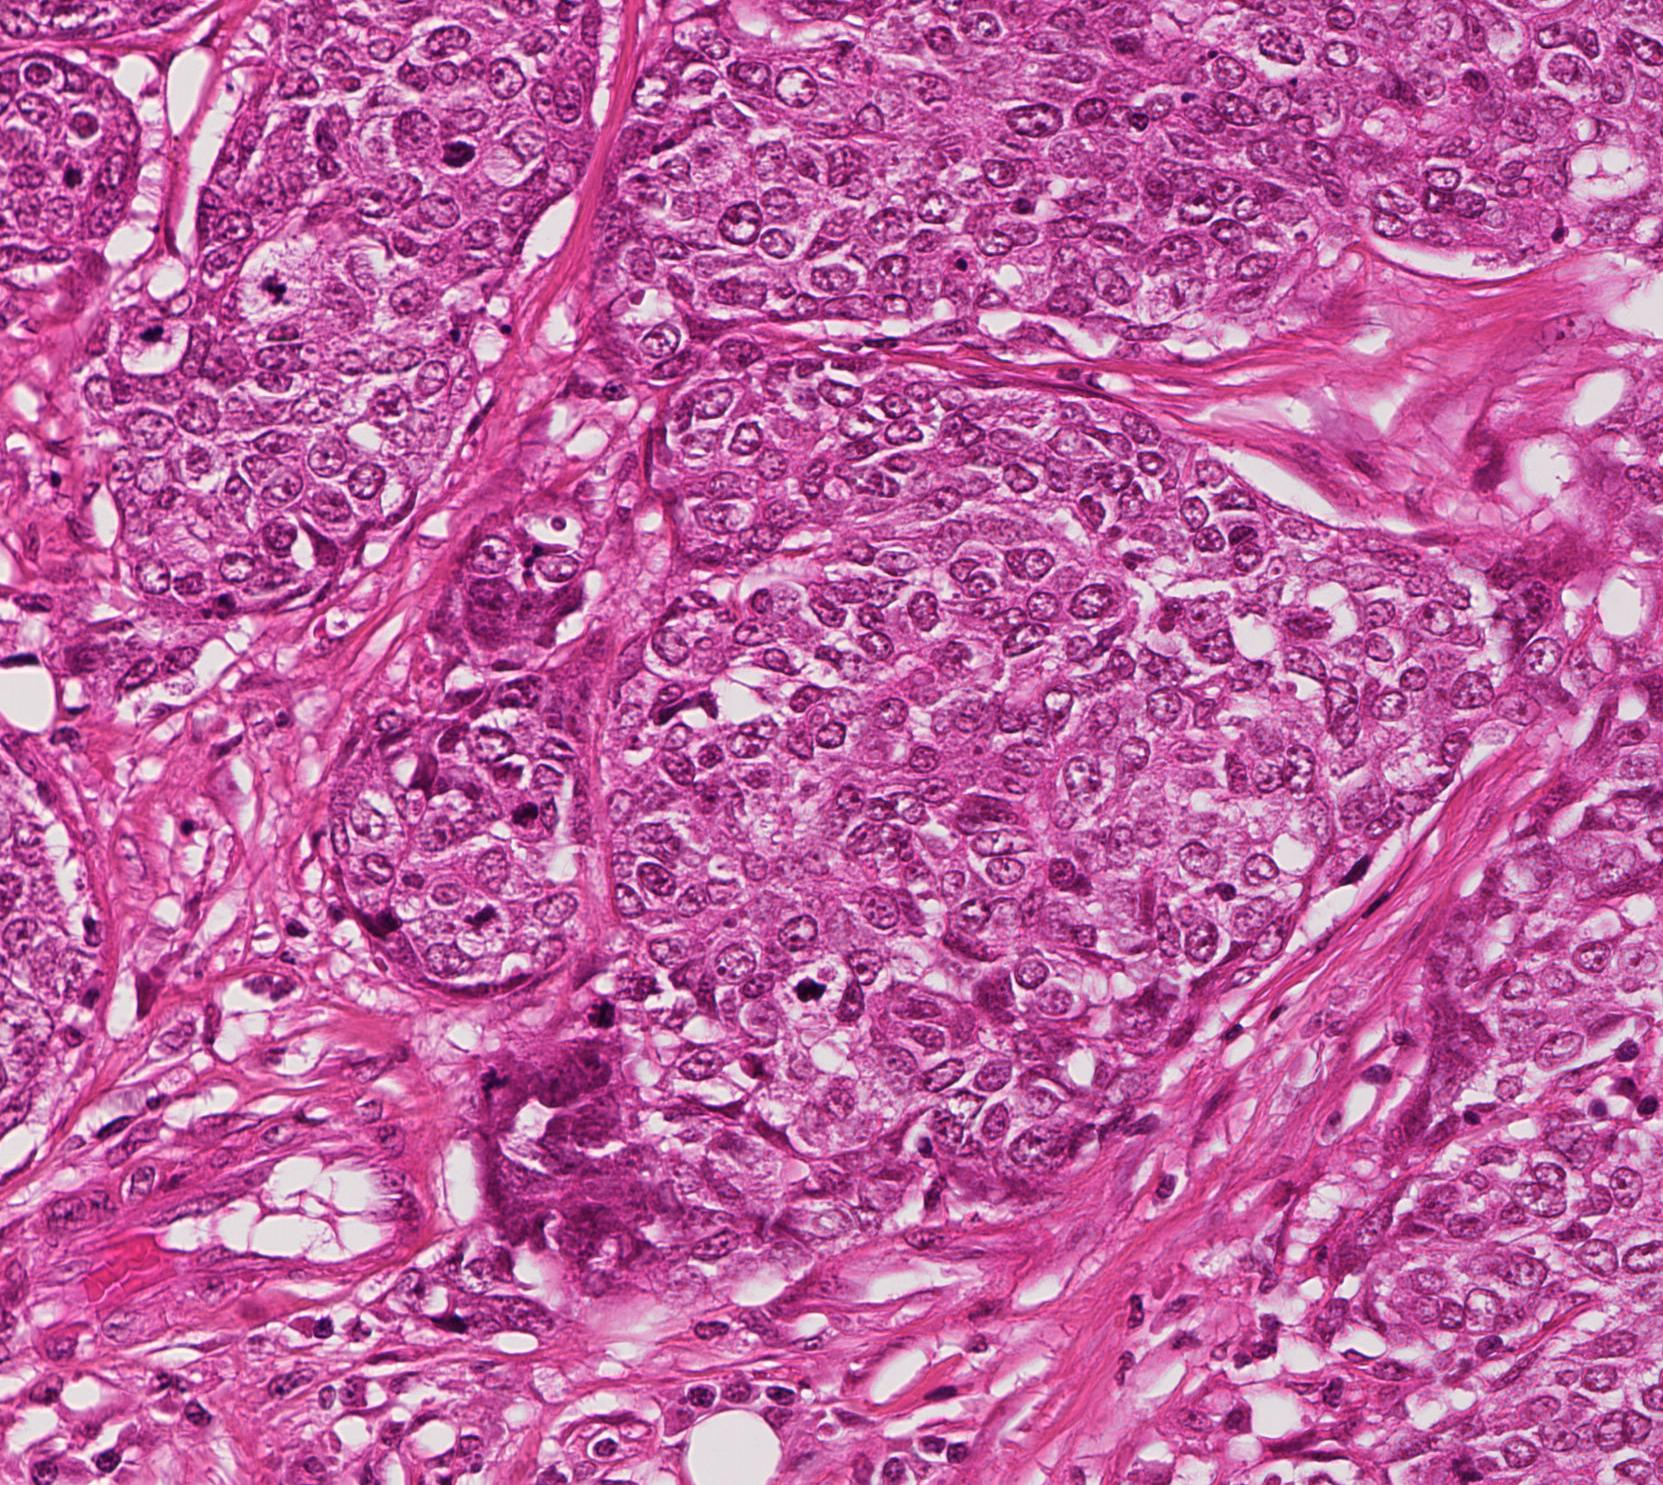mitosis: (781, 956, 842, 1016), (427, 115, 487, 175), (456, 874, 516, 935), (237, 249, 295, 310), (495, 788, 553, 849), (1438, 1436, 1498, 1485)
